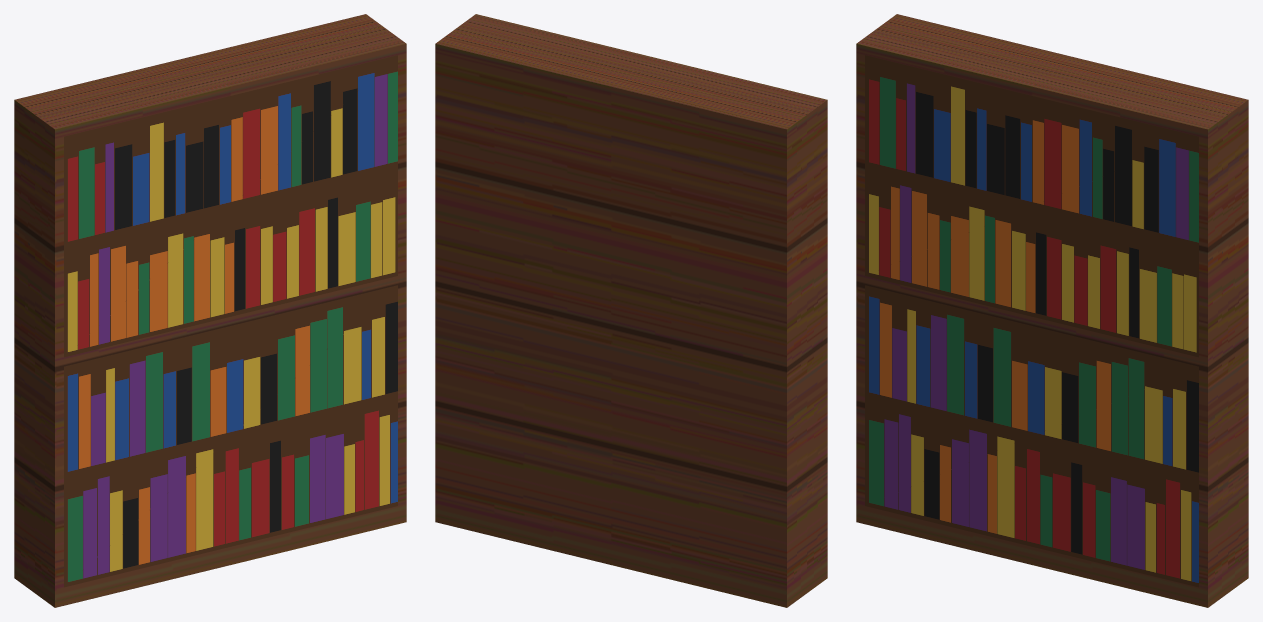
File: library_bookcase.glb
3 renders of one model, left to right at view 1: azimuth 30°, elevation 25°; view 2: azimuth 150°, elevation 25°; view 3: azimuth 330°, elevation 25°, orthographic.
Parts seen in each view (by area): view 1: library_bookcase; view 2: library_bookcase; view 3: library_bookcase.
Part boxes in pixels (left/top/right/bottom): library_bookcase: left=14, top=14, right=406, bottom=607; library_bookcase: left=435, top=14, right=827, bottom=607; library_bookcase: left=856, top=14, right=1248, bottom=607.
Bounding box in the file's own units: 2 × 2.6 × 0.401.
Materials: 3 (3 with a texture image).
